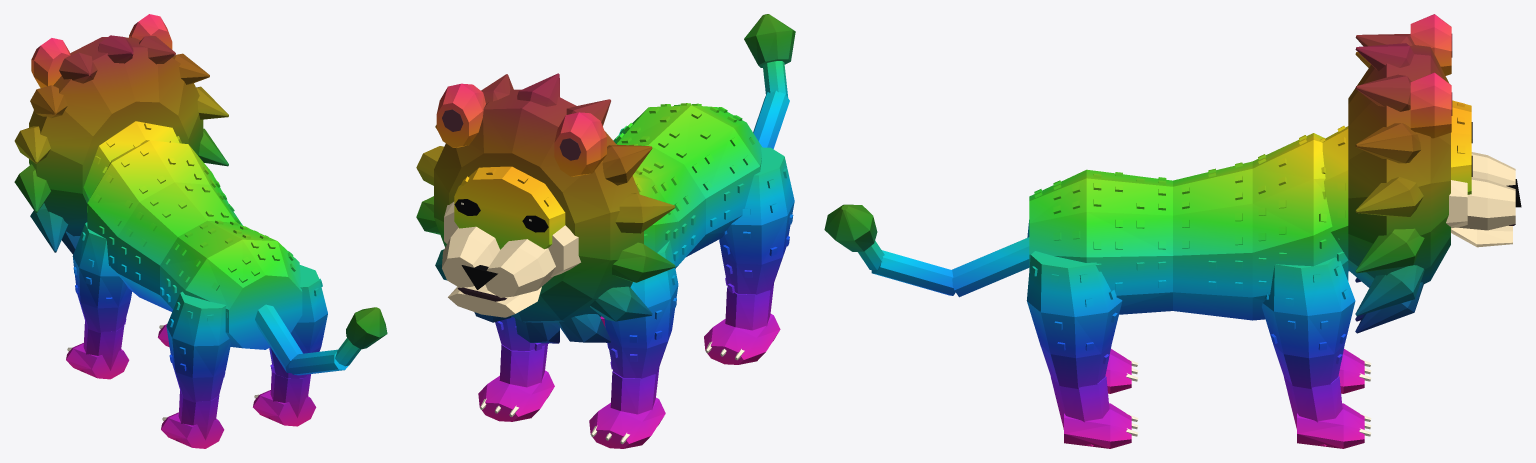
The model's file is Lion.fbx.
3 renders of one model, left to right at view 1: azimuth 30°, elevation 25°; view 2: azimuth 150°, elevation 25°; view 3: azimuth 270°, elevation 25°, orthographic. The views are drawn at different scales.
Parts seen in each view (by area): view 1: Import3D_Core, Import3D_Head, Import3D_LegBL, Import3D_LegFL, Import3D_LegBR, Import3D_KneeBR, Import3D_KneeBL, Import3D_KneeFL, Import3D_Neck, Import3D_Tail, Import3D_EarL, Import3D_TailTuft (+3 smaller); view 2: Import3D_Head, Import3D_Core, Import3D_LegBL, Import3D_LegFL, Import3D_KneeFR, Import3D_KneeFL, Import3D_KneeBL, Import3D_EarL, Import3D_EarR, Import3D_TailTuft, Import3D_Jaw, Import3D_Tail1 (+2 smaller); view 3: Import3D_Core, Import3D_Head, Import3D_LegBR, Import3D_LegFR, Import3D_KneeBR, Import3D_KneeFR, Import3D_Neck, Import3D_EarR, Import3D_Tail, Import3D_Tail1, Import3D_TailTuft, Import3D_EarL (+3 smaller).
Boxes of the visible parts, bbox=[...] form: Import3D_Core: bbox=[87, 140, 302, 349]; Import3D_Head: bbox=[14, 35, 228, 254]; Import3D_LegBL: bbox=[166, 291, 230, 402]; Import3D_LegFL: bbox=[72, 222, 132, 332]; Import3D_LegBR: bbox=[269, 265, 327, 378]; Import3D_KneeBR: bbox=[253, 371, 316, 426]; Import3D_KneeBL: bbox=[161, 390, 224, 448]; Import3D_KneeFL: bbox=[66, 321, 129, 379]; Import3D_Neck: bbox=[83, 121, 181, 199]; Import3D_Tail: bbox=[255, 304, 302, 373]; Import3D_EarL: bbox=[31, 38, 70, 87]; Import3D_TailTuft: bbox=[346, 307, 387, 349]; Import3D_Head: bbox=[416, 73, 675, 343]; Import3D_Core: bbox=[613, 103, 761, 268]; Import3D_LegBL: bbox=[719, 147, 794, 294]; Import3D_LegFL: bbox=[604, 240, 678, 378]; Import3D_KneeFR: bbox=[478, 343, 554, 421]; Import3D_KneeFL: bbox=[589, 367, 665, 448]; Import3D_KneeBL: bbox=[704, 284, 780, 364]; Import3D_EarL: bbox=[554, 112, 606, 176]; Import3D_EarR: bbox=[436, 83, 485, 147]; Import3D_TailTuft: bbox=[744, 14, 795, 67]; Import3D_Jaw: bbox=[448, 285, 541, 317]; Import3D_Tail1: bbox=[753, 90, 789, 149]; Import3D_Core: bbox=[1029, 133, 1348, 320]; Import3D_Head: bbox=[1348, 34, 1521, 333]; Import3D_LegBR: bbox=[1026, 251, 1122, 388]; Import3D_LegFR: bbox=[1262, 257, 1355, 388]; Import3D_KneeBR: bbox=[1051, 376, 1138, 448]; Import3D_KneeFR: bbox=[1284, 376, 1371, 448]; Import3D_Neck: bbox=[1319, 126, 1348, 262]; Import3D_EarR: bbox=[1410, 72, 1452, 138]; Import3D_Tail: bbox=[952, 237, 1029, 297]; Import3D_Tail1: bbox=[871, 250, 955, 295]; Import3D_TailTuft: bbox=[824, 204, 877, 251]; Import3D_EarL: bbox=[1410, 14, 1452, 75].
Bounding box in the file's own units: 207 × 309 × 525.
1 material, 1 textured.
